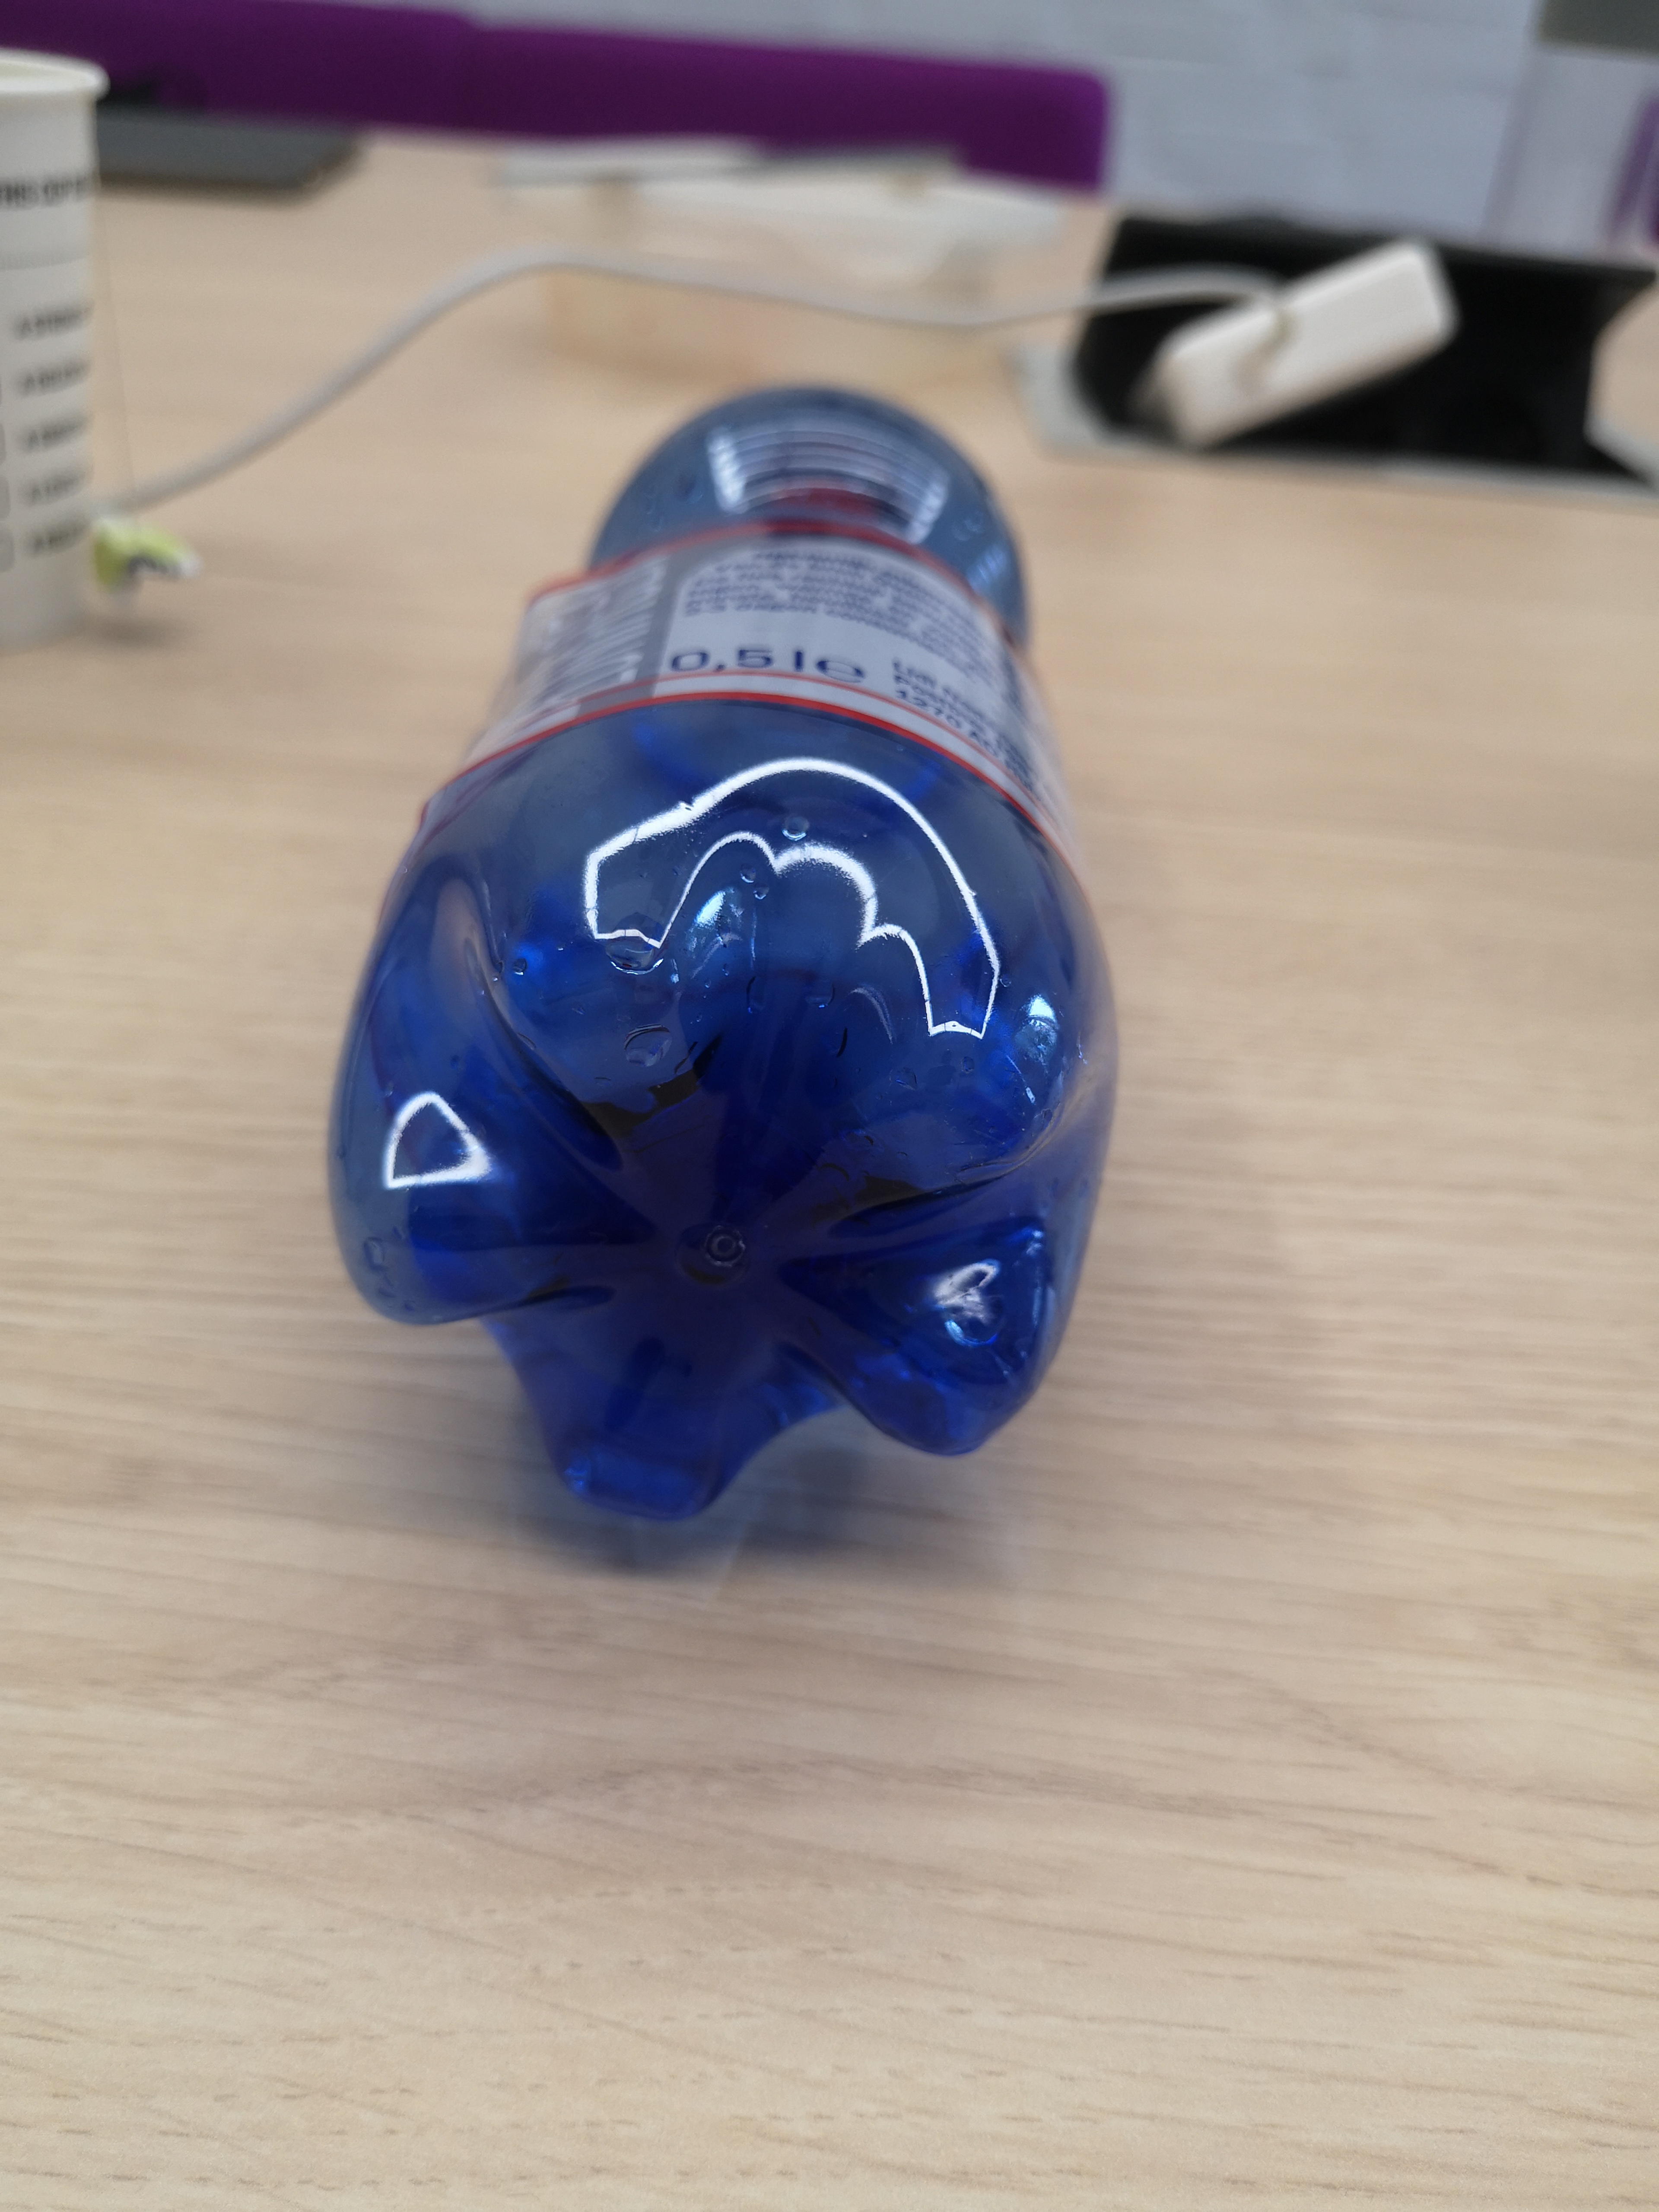plastic_bottle: (296, 324, 1157, 1575)
